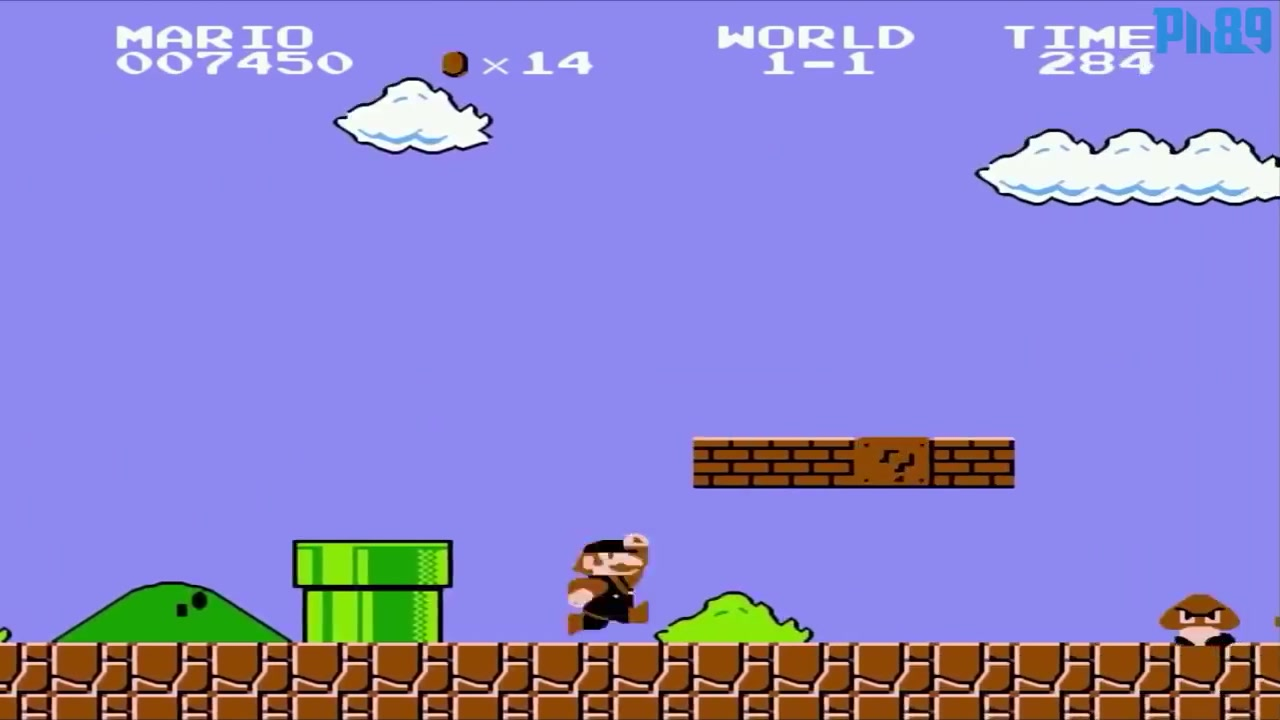mario: (560, 527, 661, 634)
